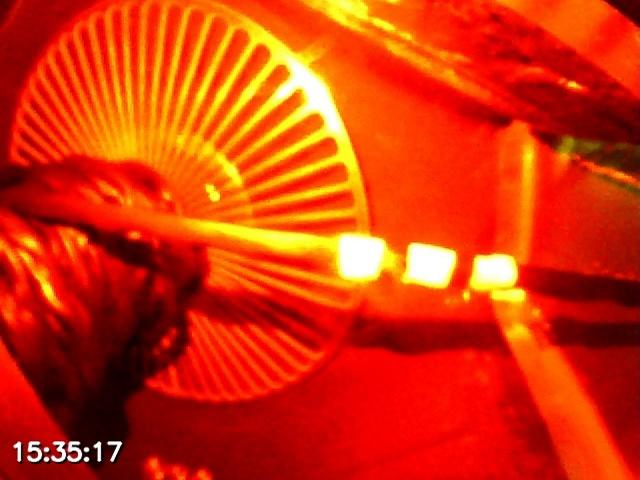white-dots: (336, 232, 518, 295)
